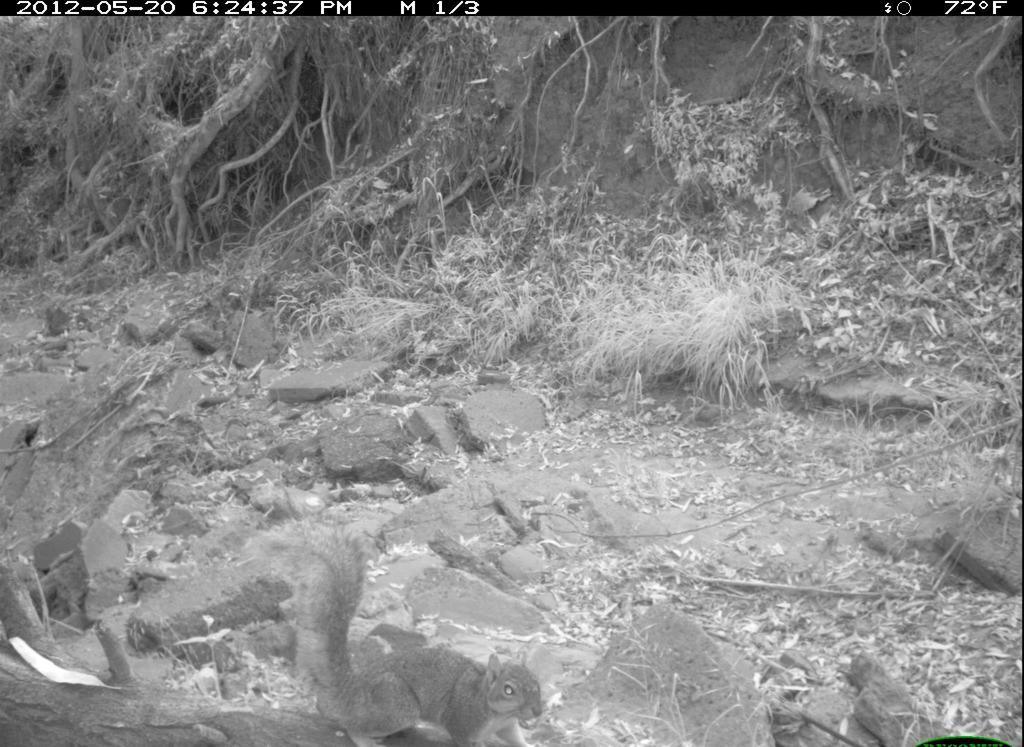squirrel: (244, 523, 557, 743)
